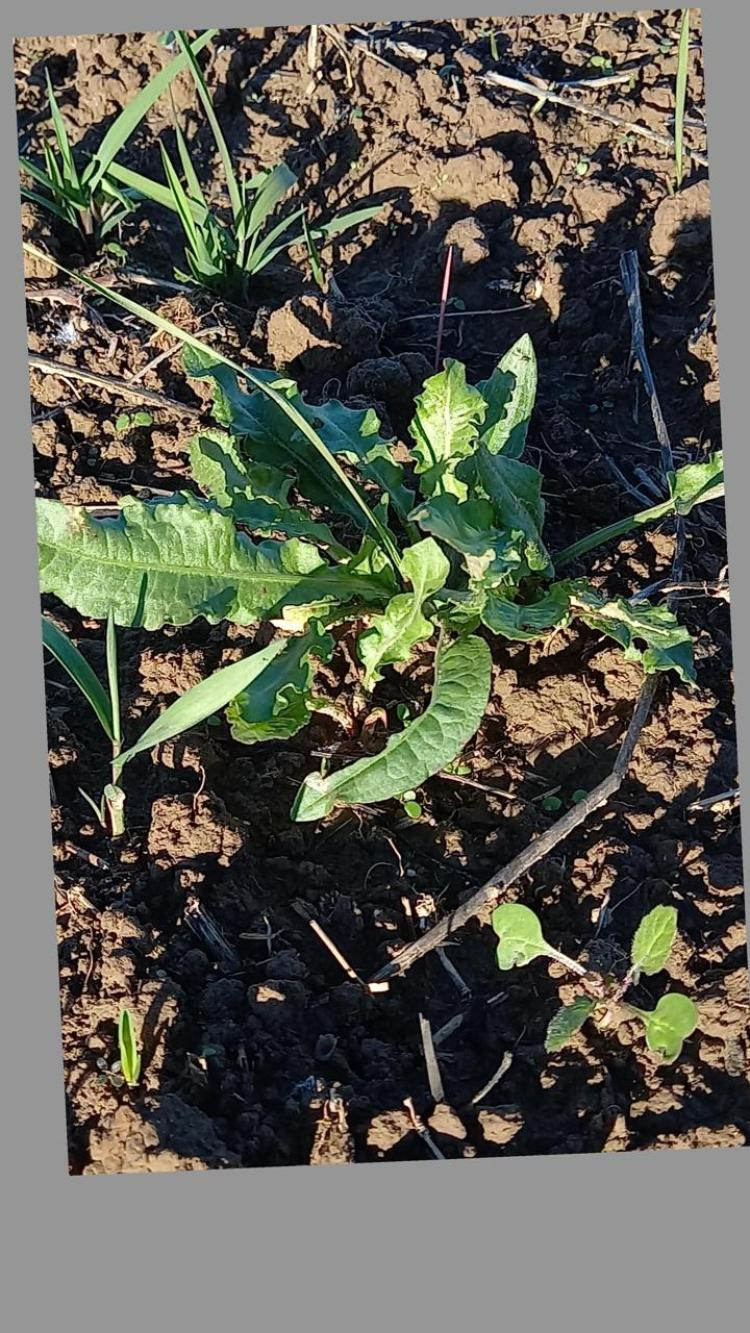zhavel: (27, 331, 733, 825)
